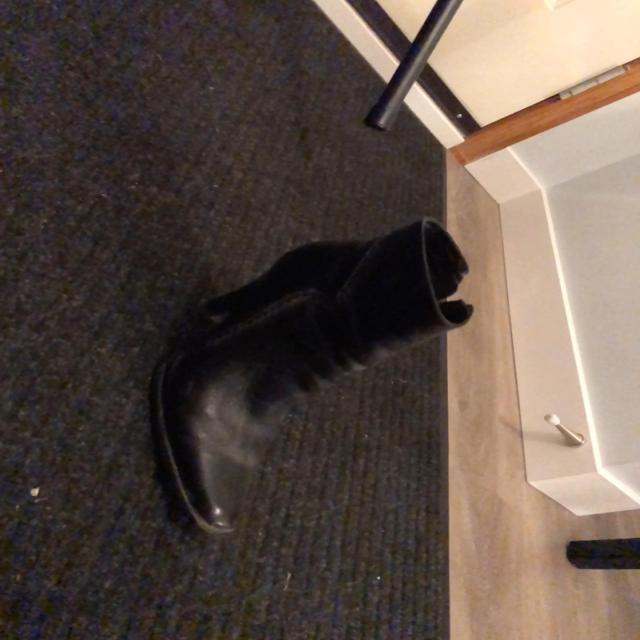shoe: (147, 219, 475, 538)
